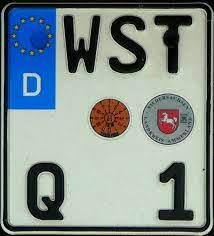1: (151, 156, 198, 223)
Q: (21, 159, 71, 222)
S: (107, 10, 149, 76)
T: (152, 10, 195, 77)
W: (60, 10, 102, 75)
